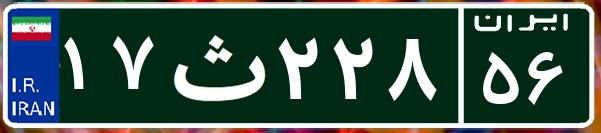1: (57, 26, 110, 107)
2: (273, 28, 330, 110), (330, 28, 385, 110)
5: (475, 38, 525, 113)
6: (525, 38, 570, 115)
7: (110, 28, 158, 105)
8: (385, 28, 445, 110)
ث: (158, 15, 273, 115)
